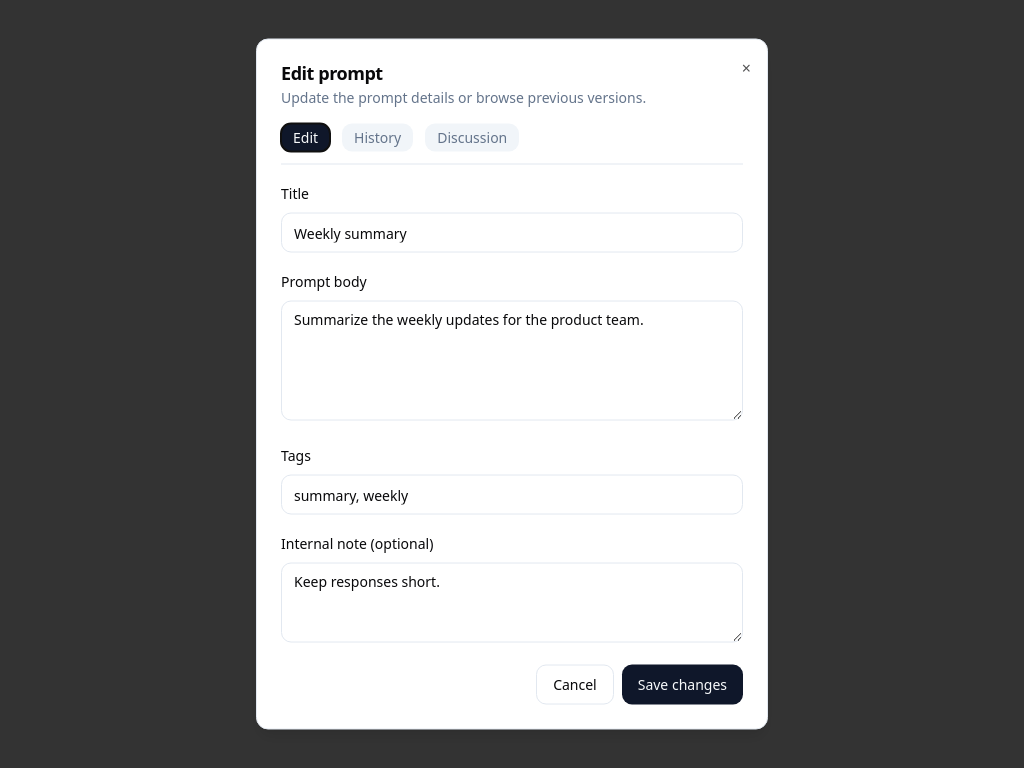
PromptEditorDialog › submits updates, invalidates caches, and resets the form
Replace the text in the field labelled "Title" with "Weekly summary v2" at (512, 232), box [281, 212, 743, 252]
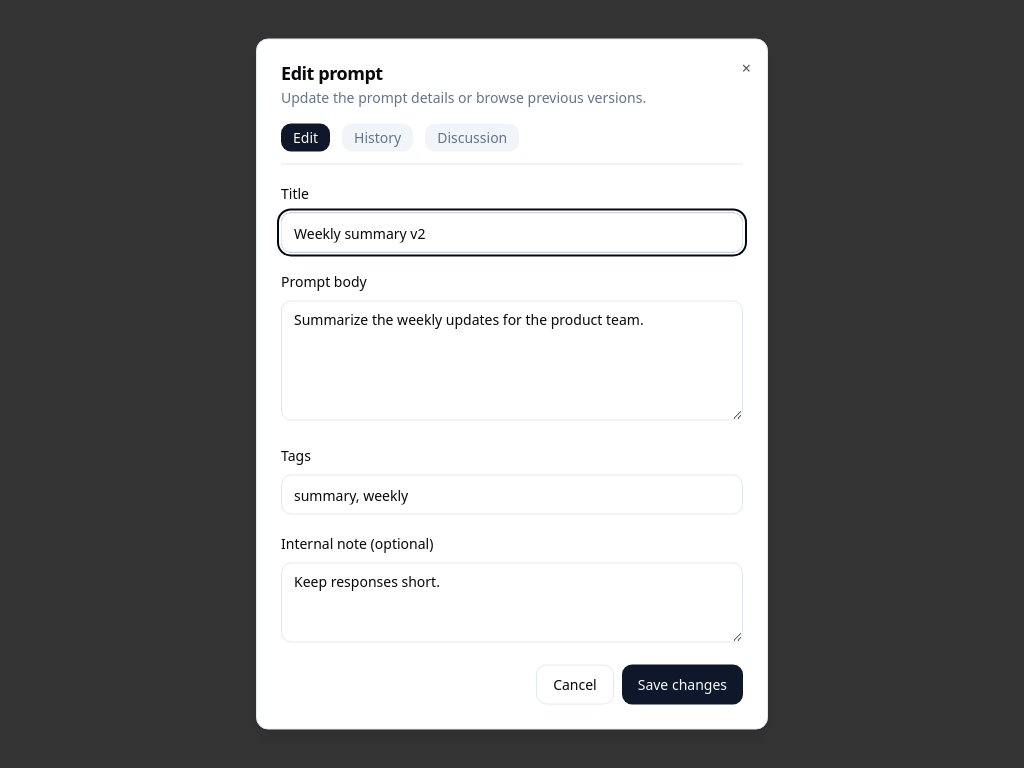
Replace the text in the text box labelled "Prompt body" with "Summarize updates with a cheerful tone." at (512, 360), box [281, 300, 743, 420]
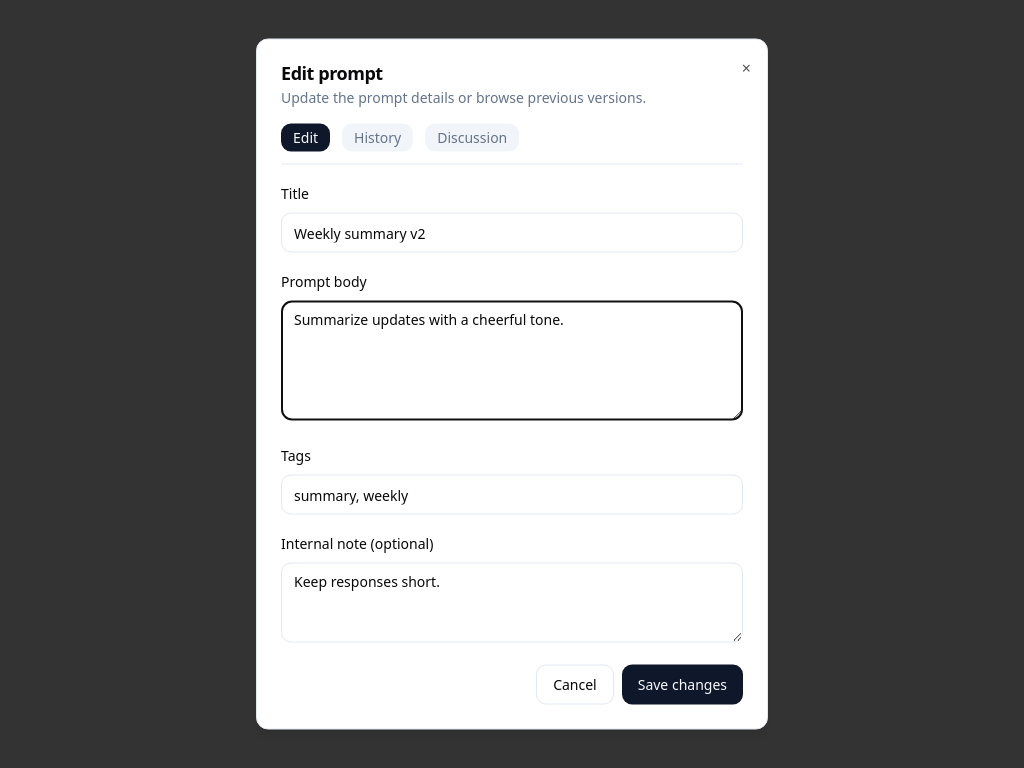
Replace the text in the field labelled "Tags" with "summary, team" at (512, 494), box [281, 474, 743, 514]
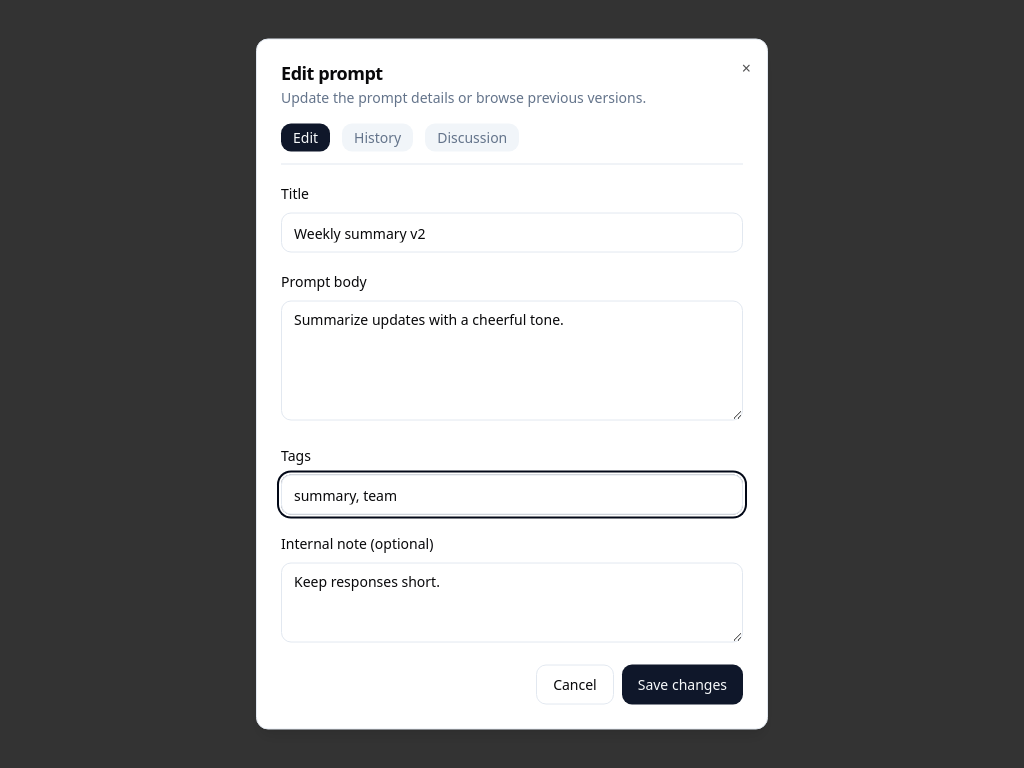
Replace the text in the text box labelled "Internal note (optional)" with "Mention product highlights first." at (512, 602), box [281, 562, 743, 642]
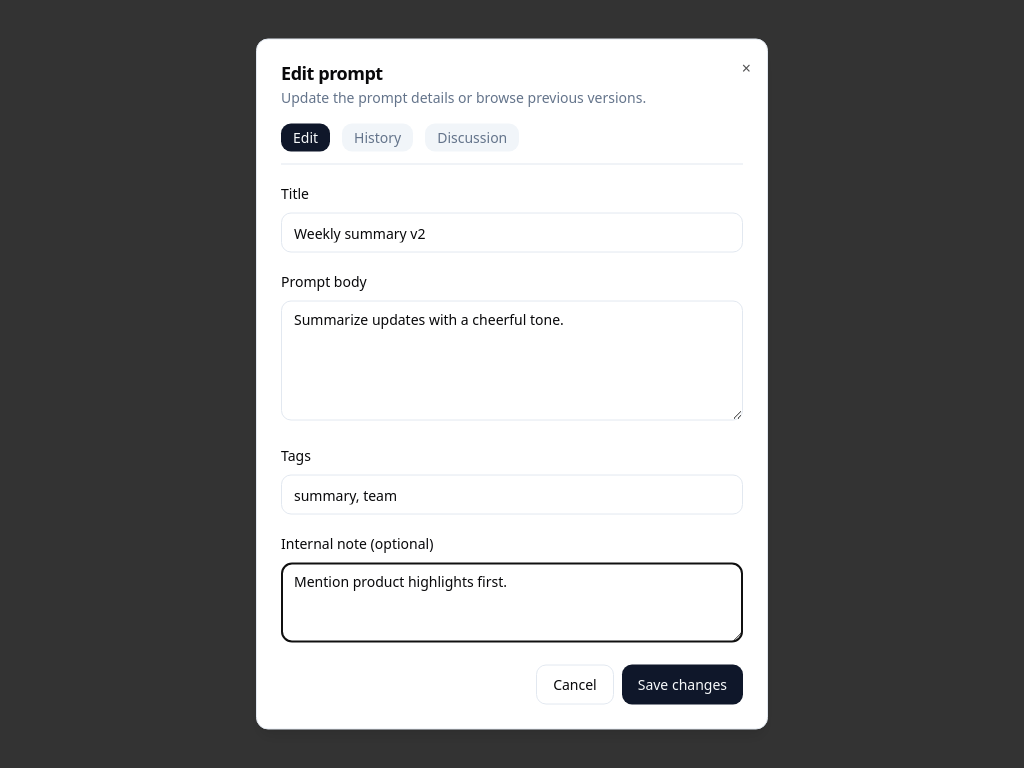
Click the button "Save changes".
click(682, 684)  # box [622, 664, 743, 704]
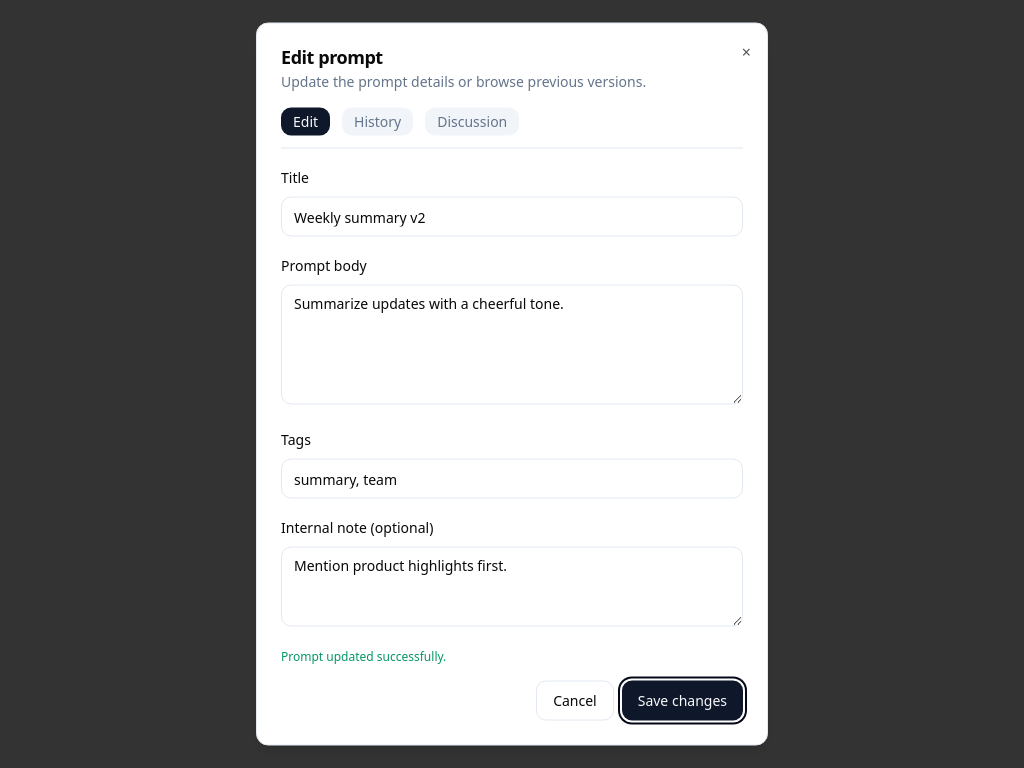
Check: the text "Prompt updated successfully." is shown, box [281, 648, 446, 664]
